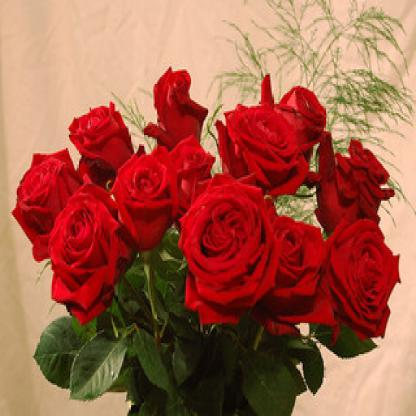ROSE-MAWAR: (9, 54, 397, 344)
